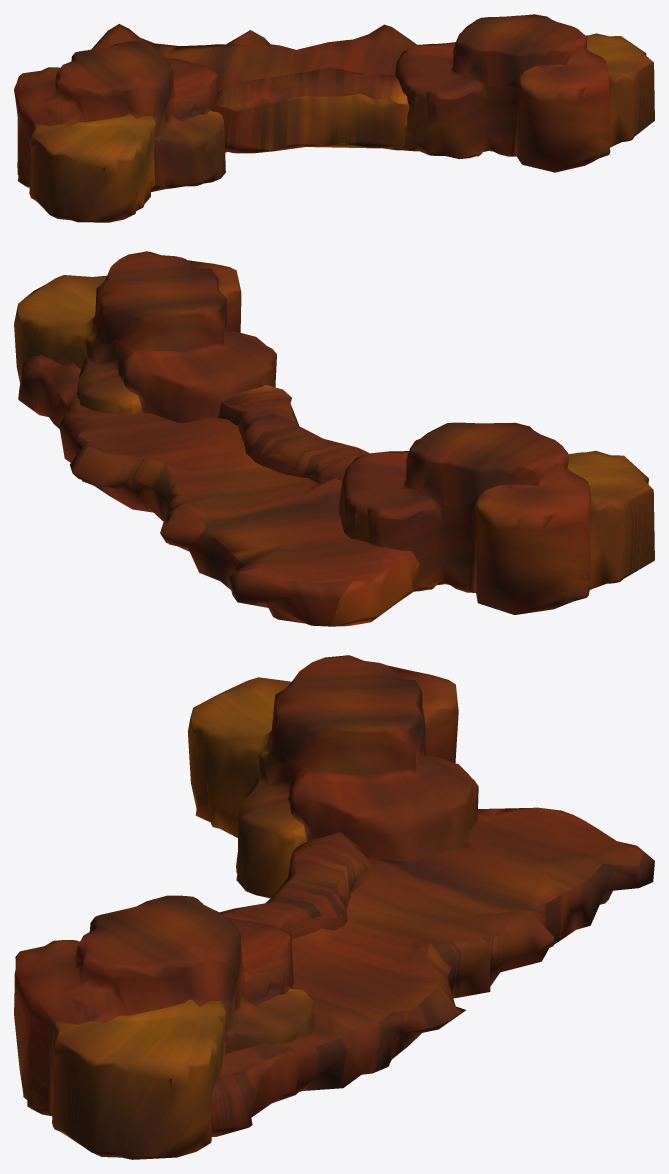
The model's file is LV3Walls.fbx.
The picture shows the model from 3 angles, top to bottom: view 1: azimuth 30°, elevation 25°; view 2: azimuth 150°, elevation 25°; view 3: azimuth 270°, elevation 25°; orthographic projection. The views are drawn at different scales.
Visible parts, largest first — view 1: CavePlatform_12; view 2: CavePlatform_12; view 3: CavePlatform_12.
Part boxes in pixels (x1,y1,x2,y2): CavePlatform_12: (14, 14, 654, 222); CavePlatform_12: (14, 251, 654, 626); CavePlatform_12: (14, 655, 654, 1159).
Size of the model in its own units: 428 by 78.79 by 297.
